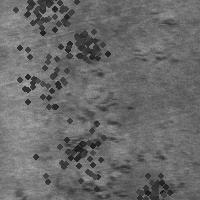rolled-in_scale: (61, 47, 132, 199), (26, 103, 124, 200), (1, 33, 89, 121), (4, 0, 88, 43), (129, 148, 199, 195), (55, 17, 109, 71), (127, 165, 177, 200), (127, 43, 181, 70)
